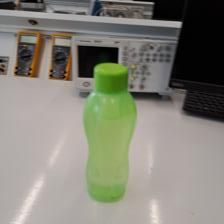bottle: (78, 61, 140, 202)
